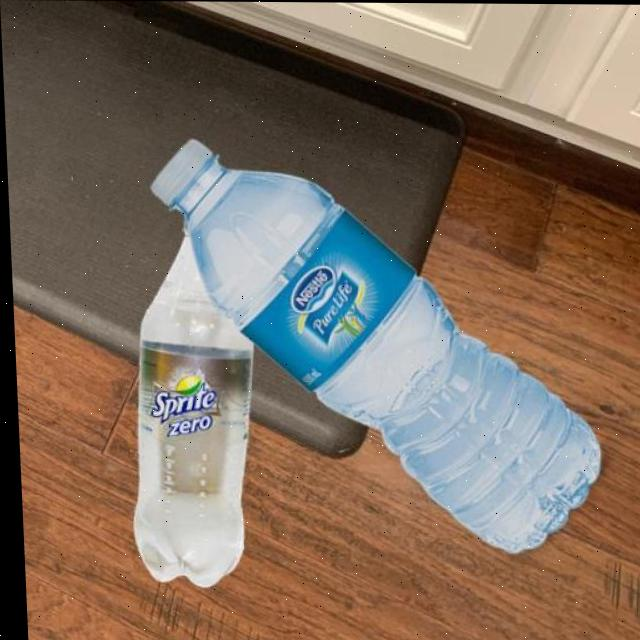bottle: (141, 136, 602, 554), (117, 222, 259, 588)
